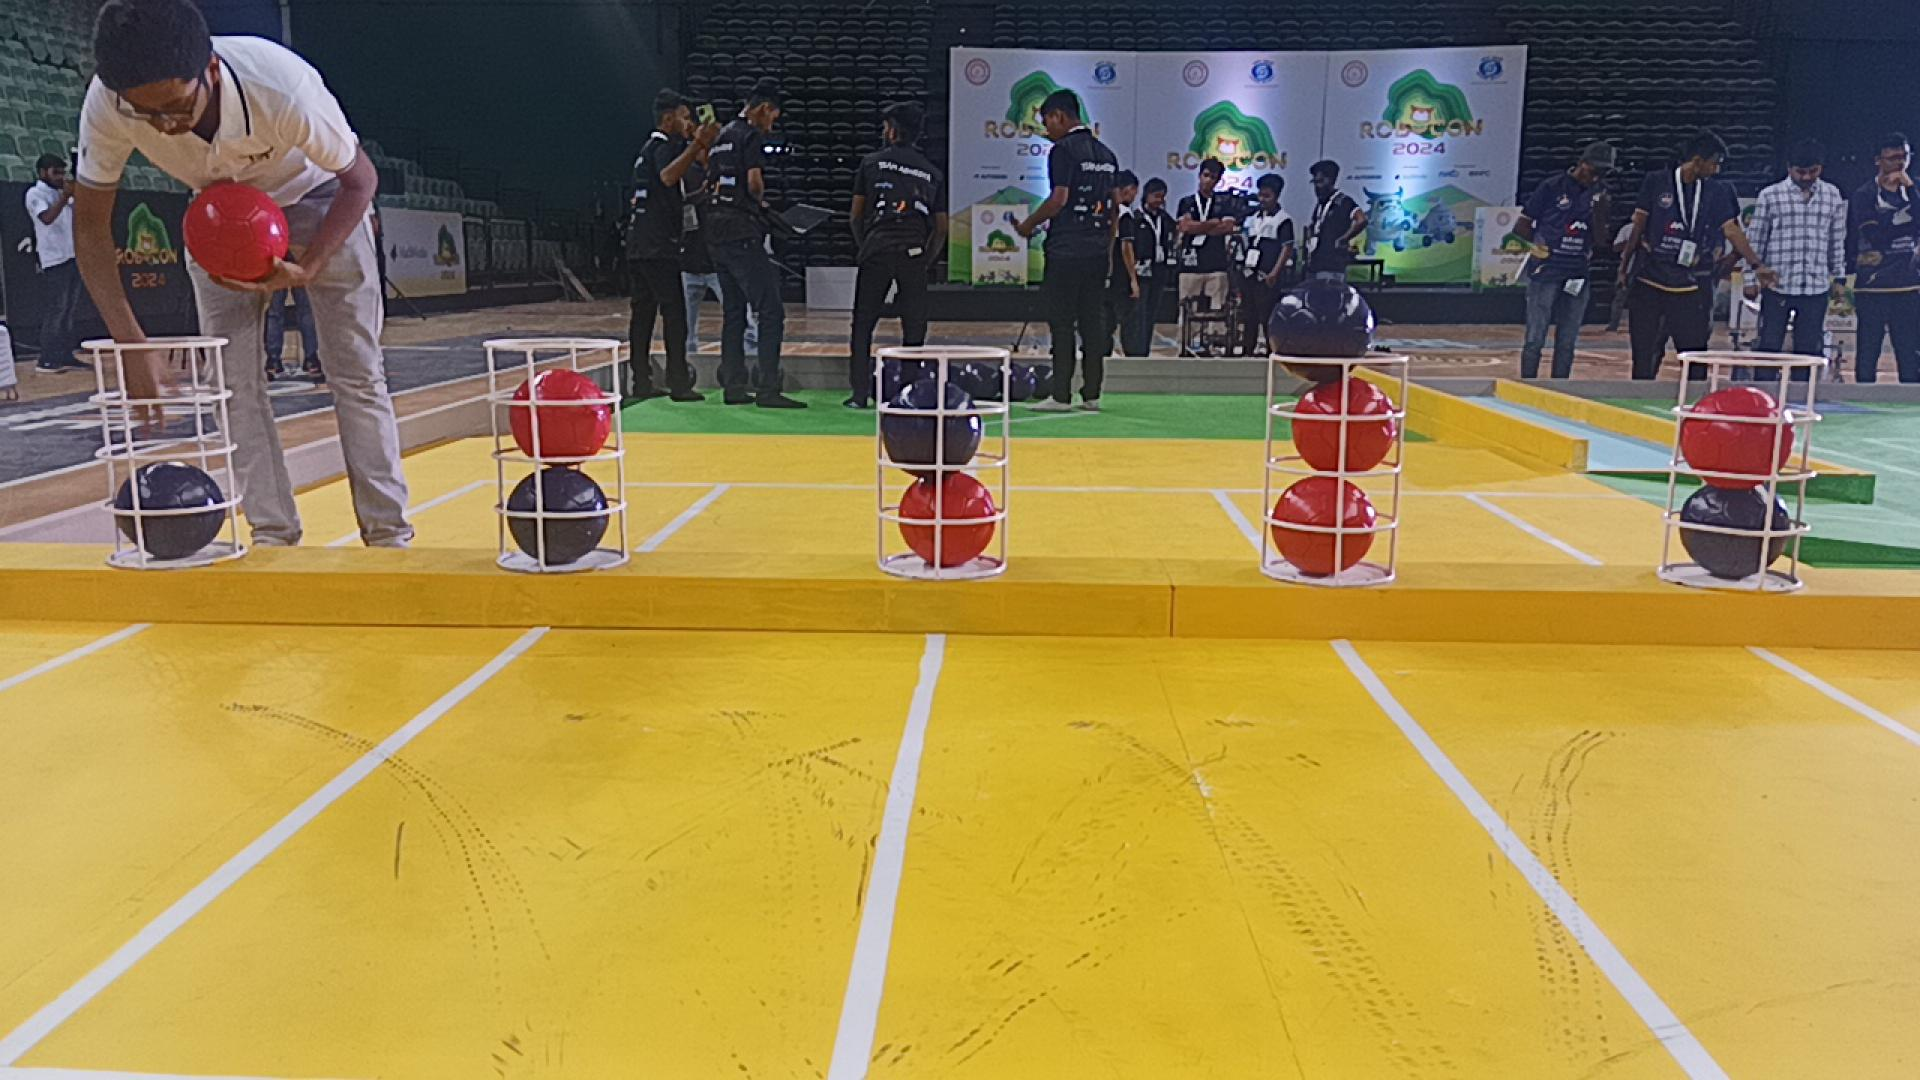dhoka: (1267, 274, 1377, 386), (877, 375, 982, 480), (112, 462, 225, 559), (1680, 484, 1792, 582), (506, 465, 608, 570)
laale: (1676, 386, 1792, 488), (1271, 476, 1377, 576), (1290, 375, 1395, 472), (897, 472, 997, 566), (510, 368, 615, 458)
